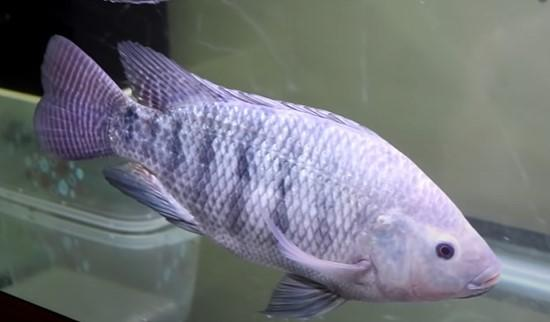Tilapia: (36, 32, 504, 318)
